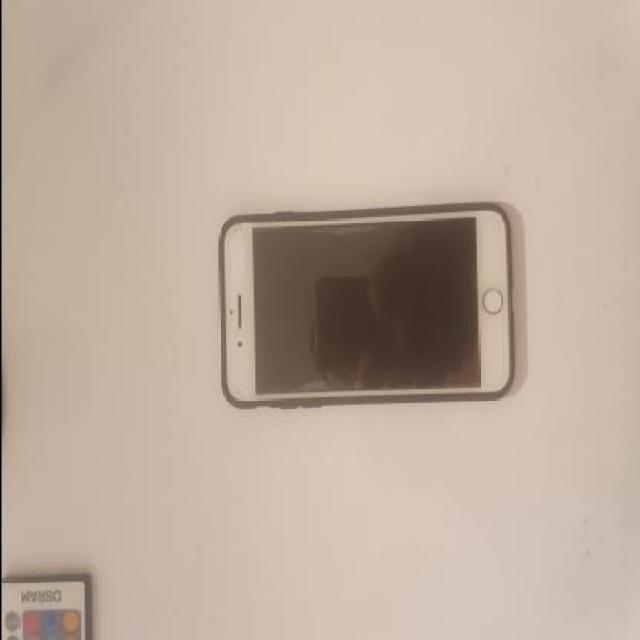phone: (214, 205, 516, 405)
